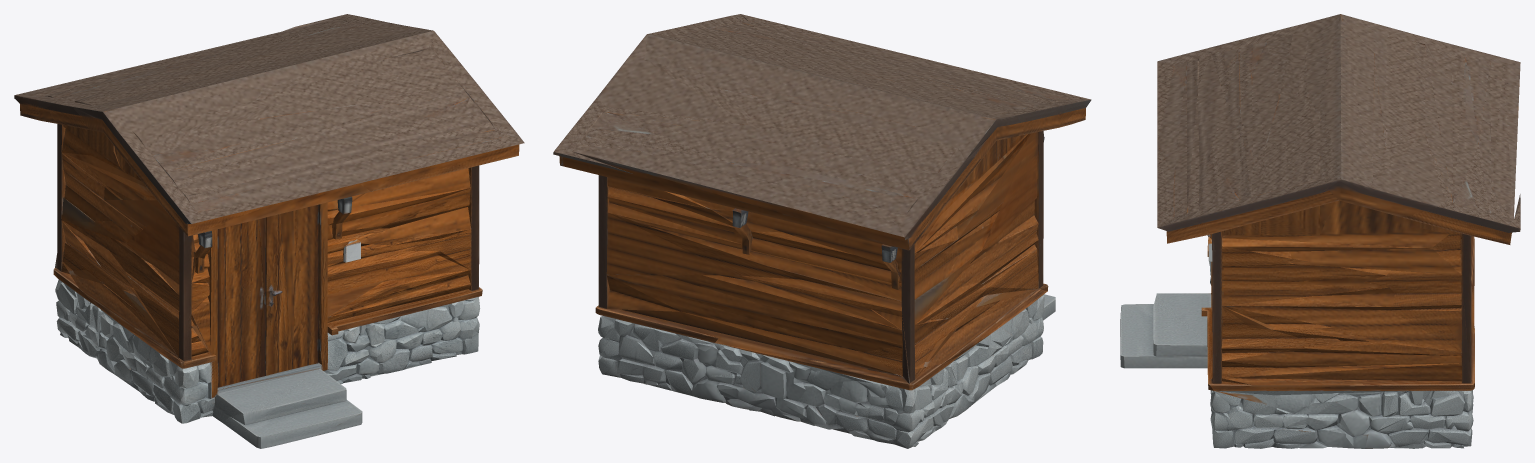
The model's file is restroom.glb.
3 renders of one model, left to right at view 1: azimuth 30°, elevation 25°; view 2: azimuth 150°, elevation 25°; view 3: azimuth 270°, elevation 25°, orthographic. The views are drawn at different scales.
Bounding box in the file's own units: 1.88 × 1.46 × 1.9.
1 material, 1 textured.
